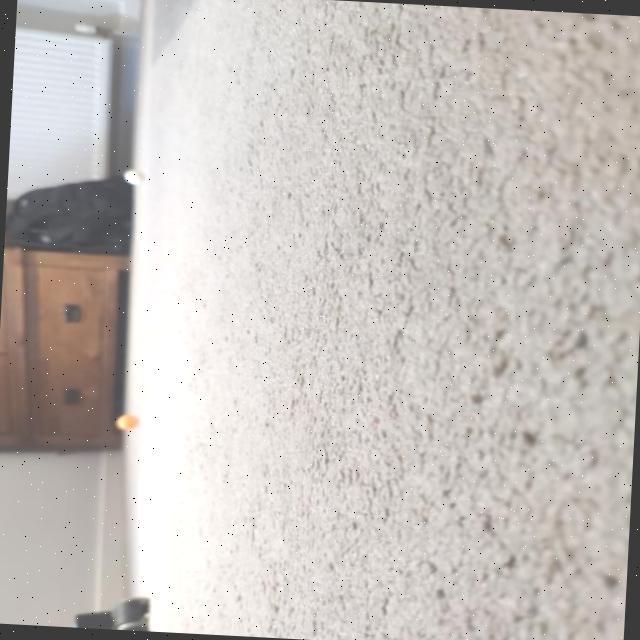ping-pong-ball: (110, 412, 141, 434), (120, 166, 148, 188)
